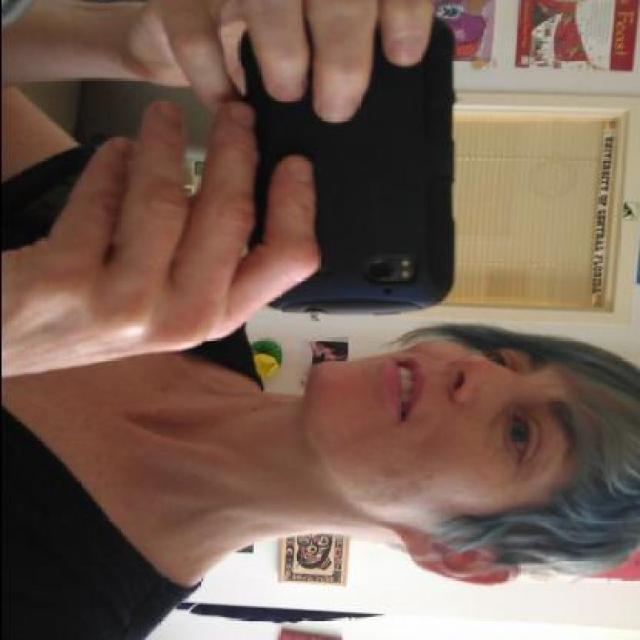phone: (211, 14, 468, 322)
